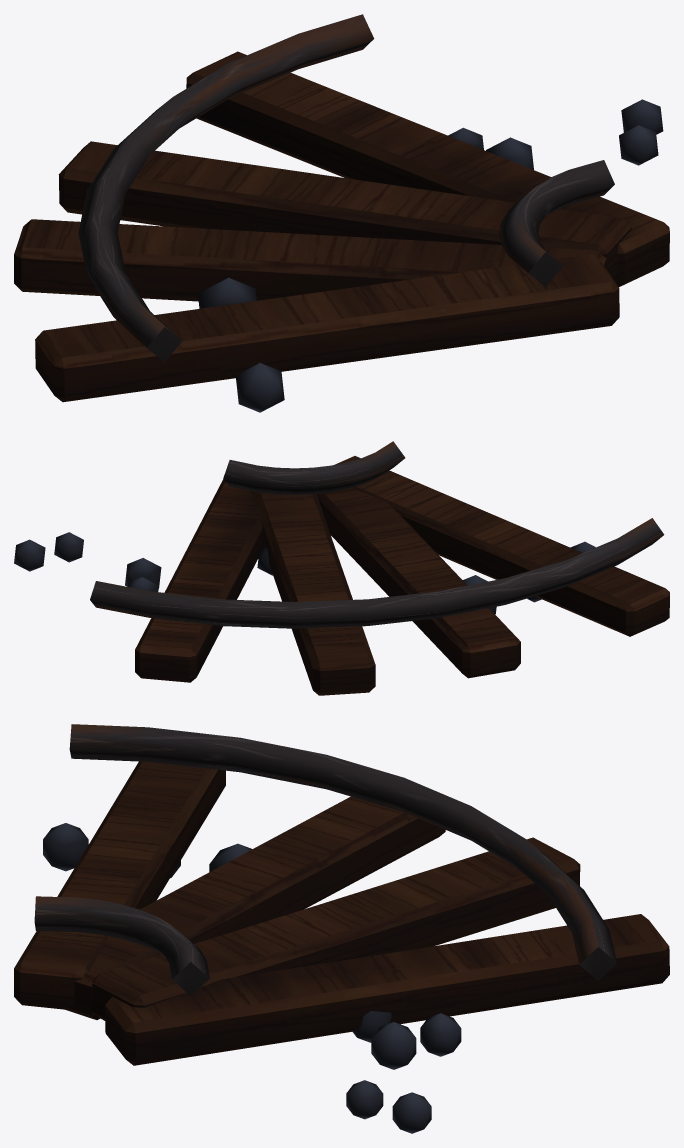
File: cave_rail_curve.glb
3 views of the same model, one above another, from view 1: azimuth 30°, elevation 25°; view 2: azimuth 150°, elevation 25°; view 3: azimuth 270°, elevation 25° (orthographic). The views are drawn at different scales.
Parts seen in each view (by area): view 1: cave_rail_curve; view 2: cave_rail_curve; view 3: cave_rail_curve.
Boxes of the visible parts, x1=… form: cave_rail_curve: x1=14, y1=14, x2=669, y2=412; cave_rail_curve: x1=14, y1=441, x2=669, y2=695; cave_rail_curve: x1=14, y1=724, x2=669, y2=1133.
Size of the model in its own units: 1.22 by 0.1775 by 0.9622.
3 materials, 3 textured.
